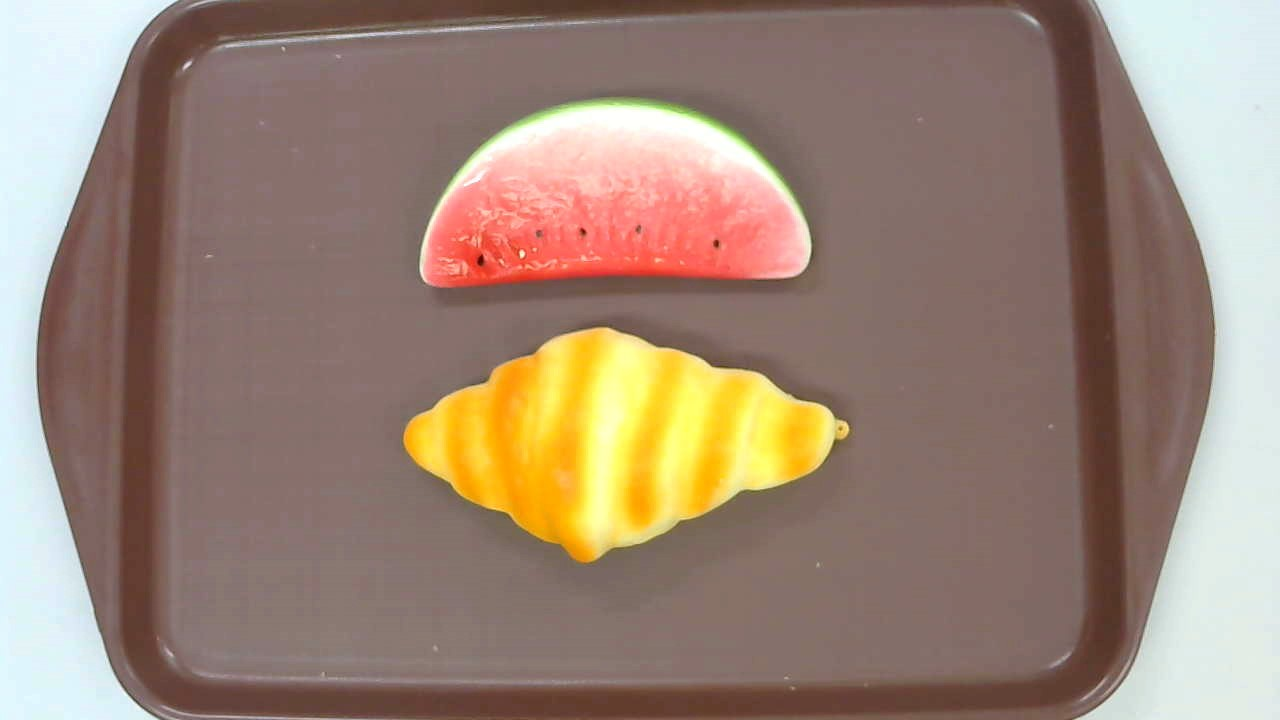croissant: (403, 326, 850, 564)
water melon: (418, 97, 814, 290)
